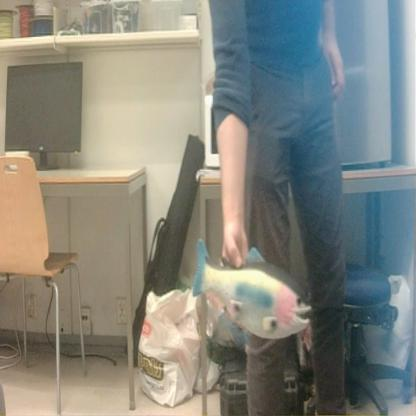rubberfish: (188, 232, 317, 347)
